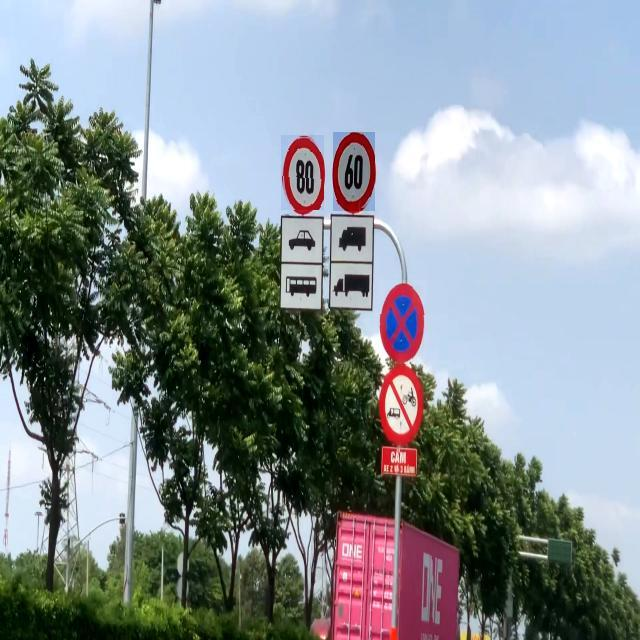P-127: (333, 132, 375, 211), (281, 135, 324, 210)
P-130: (379, 280, 427, 364)
